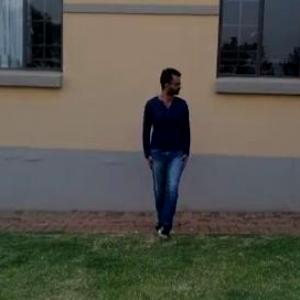follow: (142, 66, 192, 234)
